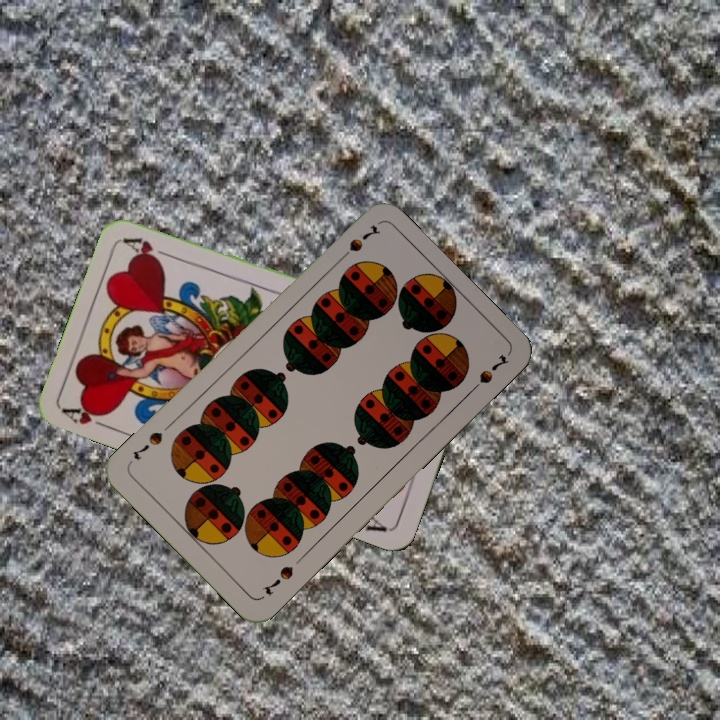HA: (60, 399, 117, 433)
S7: (333, 221, 383, 265), (257, 562, 296, 598)
